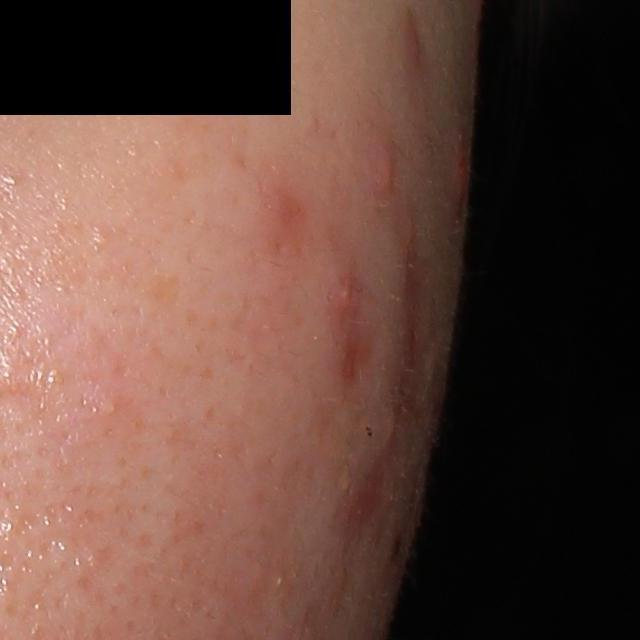papule: (366, 134, 401, 197), (327, 269, 361, 320), (452, 135, 474, 201)
